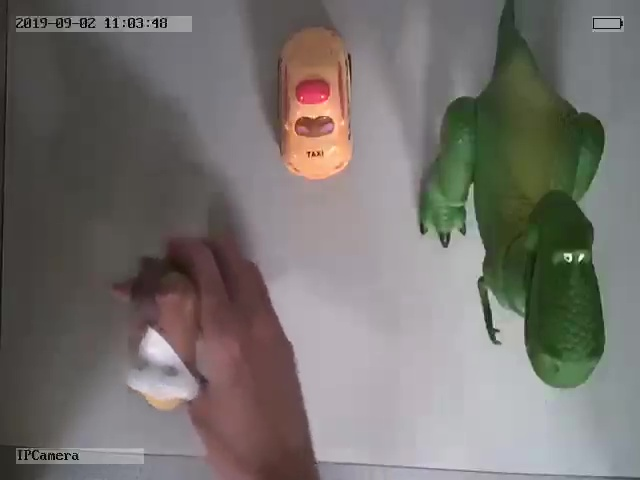car: (272, 22, 356, 179)
rex: (419, 7, 606, 390)
